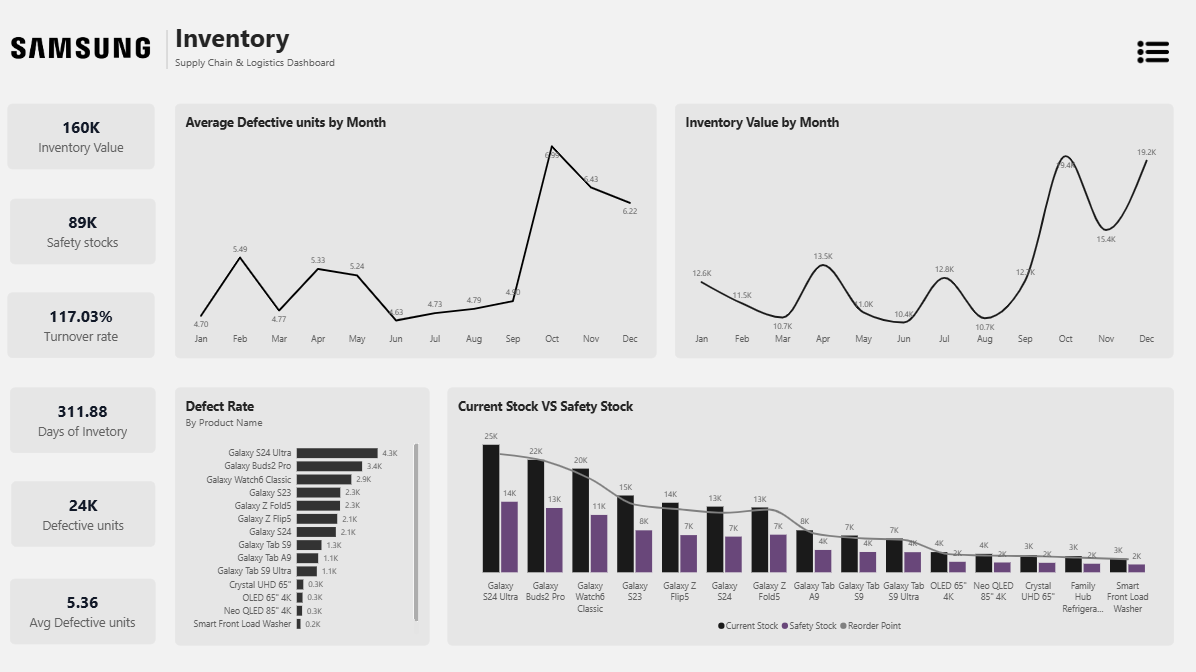

Layout of this report page (visuals, bound fields, positions):
{"tool":"powerbi","page":{"name":"Inventory","canvas":[1920,1080],"ordinal":3},"visuals":[{"type":"image","box":[0,15,247.5,120],"z":0},{"type":"shape","title":"Inventory ","box":[280,32.5,580,102.5],"z":1000},{"type":"shape","box":[55,47.5,422.5,62.5],"z":2000},{"type":"cardVisual","fields":{"Data":["Measures_table.Safety_stocks"]},"box":[15,317.5,232.5,105],"z":3000},{"type":"cardVisual","fields":{"Data":["Avg(fact_production.defective_units)"]},"box":[15,925,232.5,105],"z":4000},{"type":"cardVisual","fields":{"Data":["Sum(fact_production.defective_units)"]},"box":[17.5,770,230,105],"z":5000},{"type":"cardVisual","fields":{"Data":["Measures_table.Days of Invetory"]},"box":[15,620,232.5,105],"z":6000},{"type":"cardVisual","fields":{"Data":["Measures_table.Turnover rate"]},"box":[12.5,467.5,235,105],"z":7000},{"type":"cardVisual","fields":{"Data":["Measures_table.Inventory_Value"]},"box":[12.5,165,235,105],"z":8000},{"type":"clusteredBarChart","title":"Defect Rate","fields":{"Category":["dim_product.product_name"],"Y":["Measures_table.Defected_Rate"]},"box":[280,620,407.5,412.5],"z":9000},{"type":"lineClusteredColumnComboChart","title":"Current Stock VS Safety Stock","fields":{"Category":["dim_product.product_name"],"Y":["Measures_table.Inventory_Value","Measures_table.Safety_stocks"],"Y2":["Measures_table.Reorder Point"]},"box":[715,620,1162.5,412.5],"z":10000},{"type":"lineChart","title":"Average Defective units by Month","fields":{"Y":["Avg(fact_production.defective_units)"],"Category":["dim_date.Month_short"]},"box":[280,165,770,407.5],"z":11000},{"type":"lineChart","title":"Inventory Value by Month","fields":{"Y":["Measures_table.Inventory_Value"],"Category":["dim_date.Month_short"]},"box":[1080,165,797.5,407.5],"z":12000},{"type":"image","box":[1812,58,66,50],"z":12001}]}

Visuals, with their boxes in screenshot pixels (x1, y1, x2, y2), scaled from the page's 1920x1080 canvas onto the 1196x672 screenshot:
image: [x1=0, y1=9, x2=154, y2=84]
"Inventory " shape: [x1=174, y1=20, x2=536, y2=84]
shape: [x1=34, y1=30, x2=297, y2=68]
cardVisual - Measures_table.Safety_stocks: [x1=9, y1=198, x2=154, y2=263]
cardVisual - Avg(fact_production.defective_units): [x1=9, y1=576, x2=154, y2=641]
cardVisual - Sum(fact_production.defective_units): [x1=11, y1=479, x2=154, y2=544]
cardVisual - Measures_table.Days of Invetory: [x1=9, y1=386, x2=154, y2=451]
cardVisual - Measures_table.Turnover rate: [x1=8, y1=291, x2=154, y2=356]
cardVisual - Measures_table.Inventory_Value: [x1=8, y1=103, x2=154, y2=168]
"Defect Rate" clusteredBarChart: [x1=174, y1=386, x2=428, y2=642]
"Current Stock VS Safety Stock" lineClusteredColumnComboChart: [x1=445, y1=386, x2=1170, y2=642]
"Average Defective units by Month" lineChart: [x1=174, y1=103, x2=654, y2=356]
"Inventory Value by Month" lineChart: [x1=673, y1=103, x2=1170, y2=356]
image: [x1=1129, y1=36, x2=1170, y2=67]
